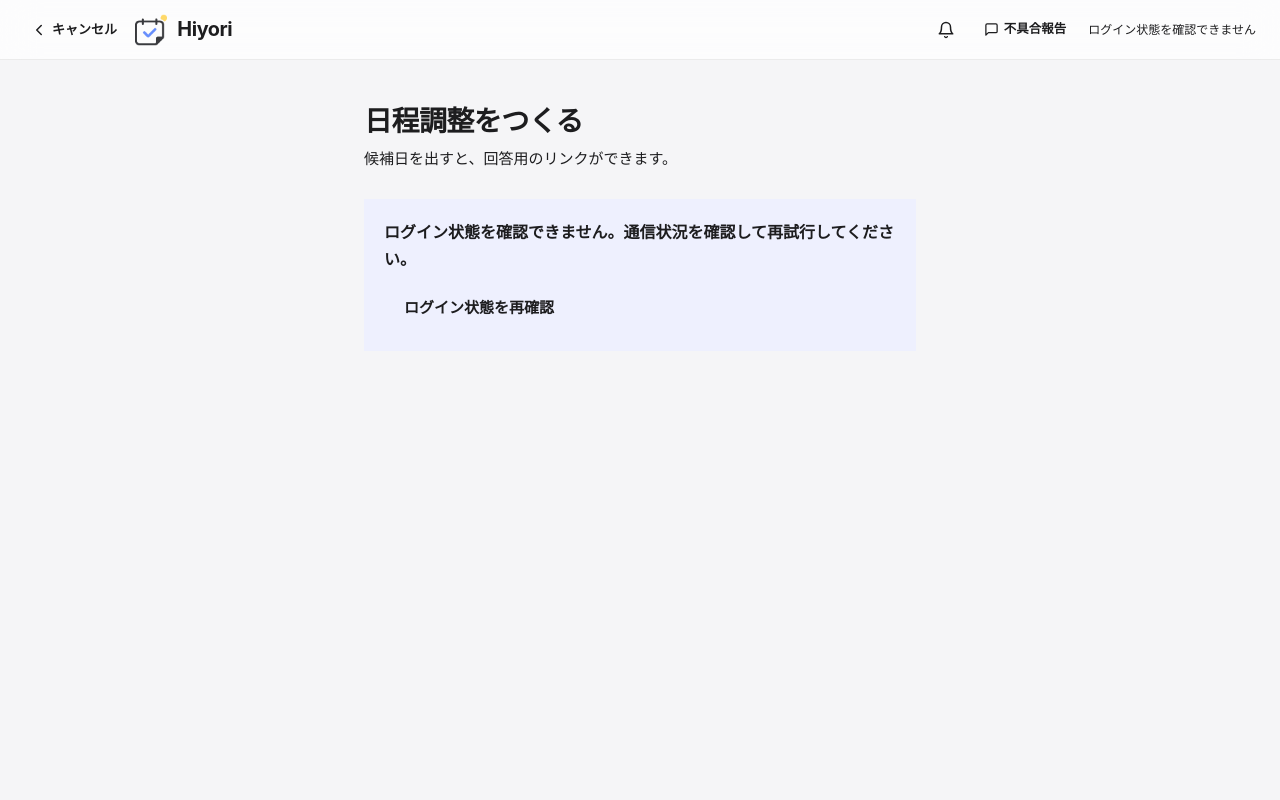
Test: 作成画面のログインガード › 通信失敗 500 は未ログインと区別し、再確認成功後に入力できる
Expected: the text "ログイン状態を確認できません。通信状況を確認して再試行してください。" is shown, x1=384 y1=218 x2=896 y2=273
Expected: the field with placeholder "例）年末の打ち上げ" is not shown
Click the button "ログイン状態を再確認" at x=479, y=308, box x1=384 y1=285 x2=574 y2=331
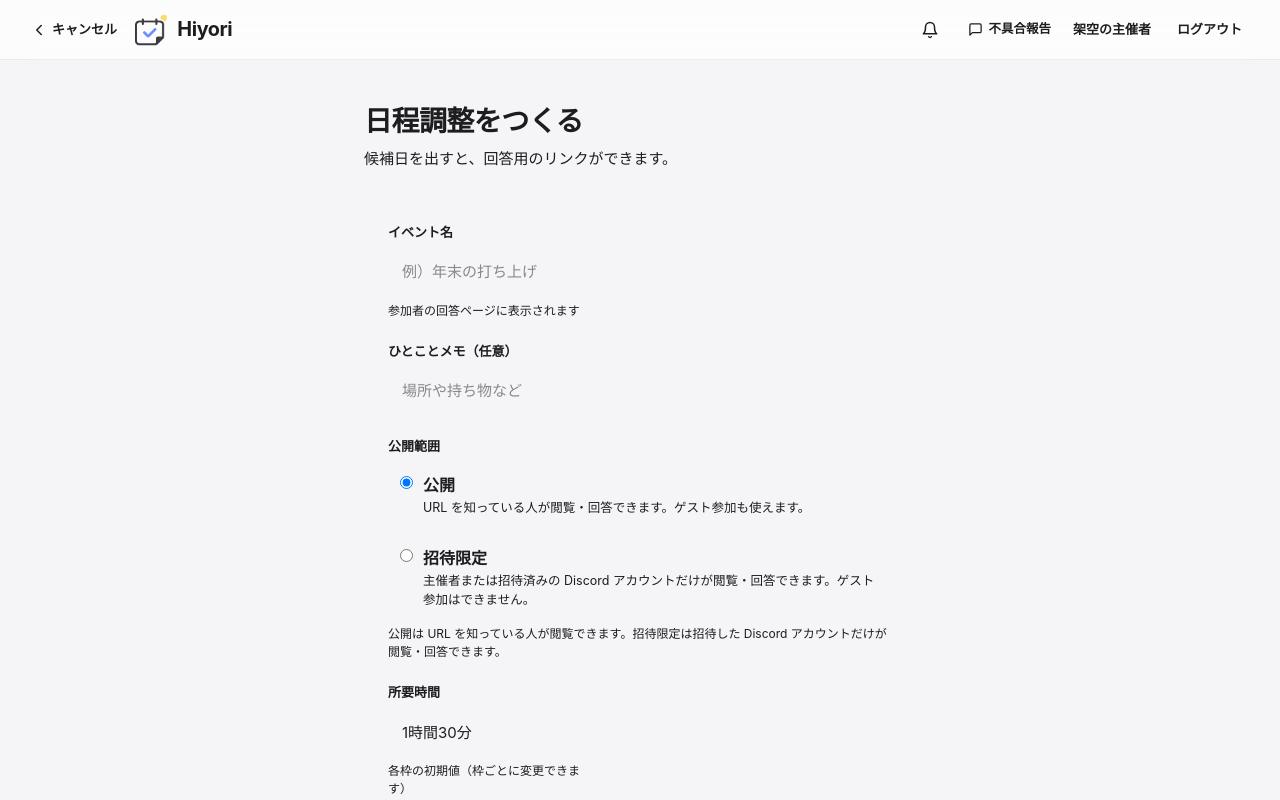
Result: the field with placeholder "例）年末の打ち上げ" is shown at x1=388 y1=249 x2=892 y2=296
